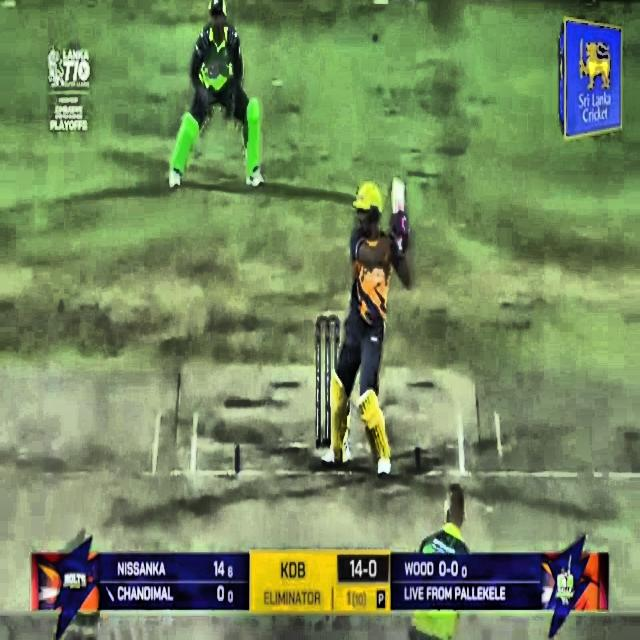Left-stump: (316, 321, 321, 448)
Middle-stump: (326, 321, 330, 448)
